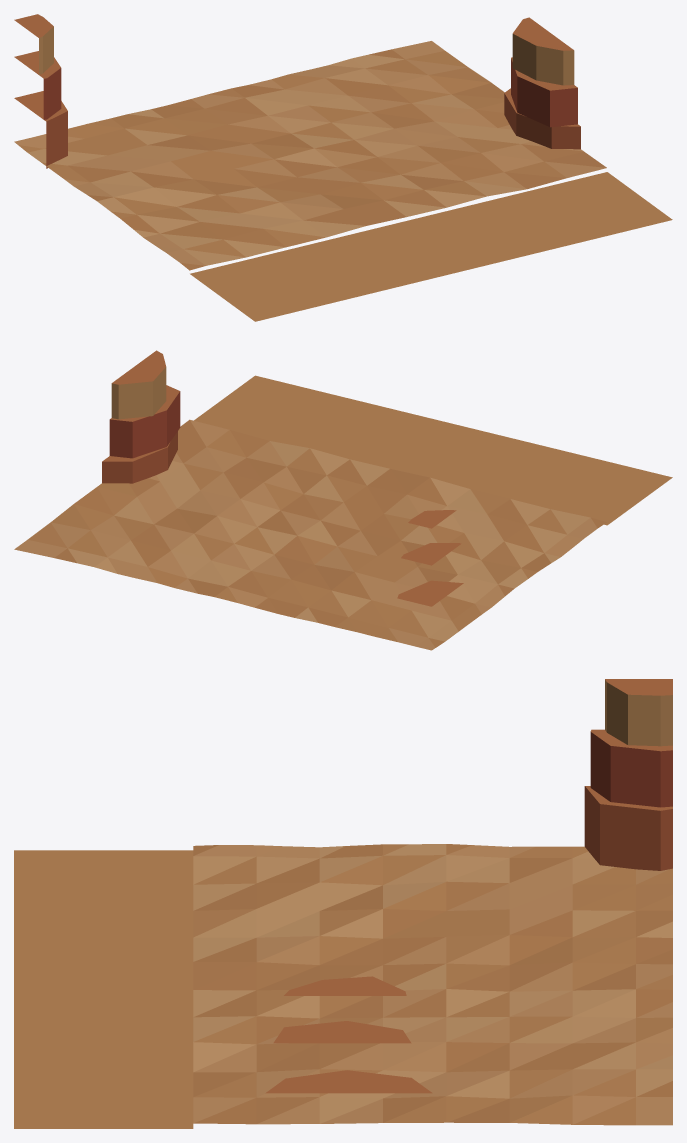
The picture shows the model from 3 angles, top to bottom: view 1: azimuth 30°, elevation 25°; view 2: azimuth 150°, elevation 25°; view 3: azimuth 270°, elevation 25°; orthographic projection. The views are drawn at different scales.
Visible parts, largest first — view 1: baked; view 2: baked; view 3: baked.
Part boxes in pixels (x1,y1,x2,y2): baked: (14, 14, 672, 321); baked: (14, 350, 672, 650); baked: (14, 679, 672, 1128).
Size of the model in its own units: 125 by 35.84 by 125.
